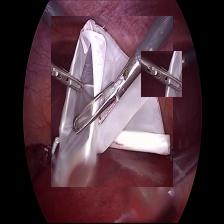Grasper: (83, 55, 153, 150), (141, 52, 182, 97)
Specimen Bag: (51, 16, 173, 187)
